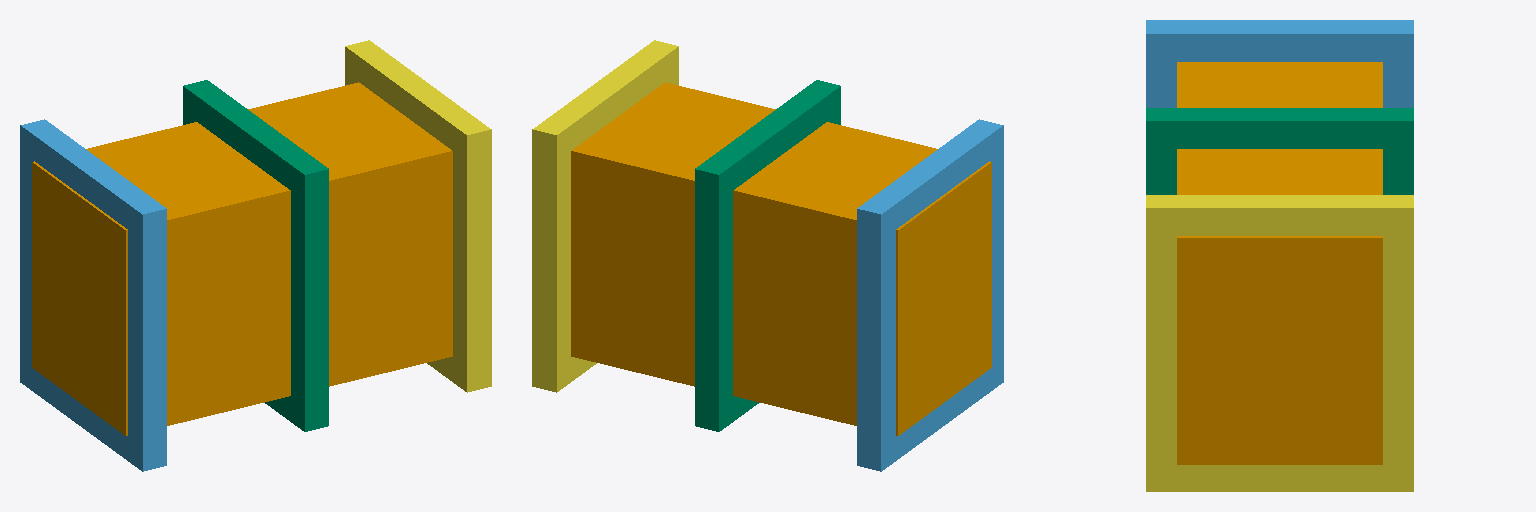
robot.urdf — debris017:
<?xml version="1.0" ?>
<robot name="debris017">

<link name="debris017">
<visual> <origin xyz="0 0 0" rpy="0 0 0" />
<geometry> <box size="0.72 0.33 0.40"/> </geometry>
</visual>
<collision> <origin xyz="0 0 0" rpy="0 0 0" />
<geometry> <box size="0.72 0.33 0.40"/> </geometry>
</collision>
<inertial> <origin xyz="0 0 0" rpy="0 0 0" />
<mass value="10.0" />
<inertia ixx="0.3883" ixy="0" ixz="0" iyy="0.3883" iyz="0" izz="0.3883" />
</inertial>
</link>
<gazebo reference="debris017"> <material>Gazebo/Wood</material> </gazebo>

<link name="debris0170">
<visual> <origin xyz="-0.33 0 0" rpy="0 0 0" />
<geometry> <box size="0.05 0.43 0.50"/> </geometry>
</visual>
<collision> <origin xyz="-0.33 0 0" rpy="0 0 0" />
<geometry> <box size="0.05 0.43 0.50"/> </geometry>
</collision>
<inertial> <origin xyz="0 0 0" rpy="0 0 0" />
<mass value="0.1" />
<inertia ixx="0.0100" ixy="0" ixz="0" iyy="0.0100" iyz="0" izz="0.0100" />
</inertial>
</link>
<gazebo reference="debris0170"> <material>Gazebo/Wood</material> </gazebo>

<joint name="debris0170joint" type="fixed">
<parent link="debris017"/>
<child link="debris0170"/>
<origin xyz="0 0 0" rpy="0 0 0" />
</joint>

<link name="debris0171">
<visual> <origin xyz="0.00 0 0" rpy="0 0 0" />
<geometry> <box size="0.05 0.43 0.50"/> </geometry>
</visual>
<collision> <origin xyz="0.00 0 0" rpy="0 0 0" />
<geometry> <box size="0.05 0.43 0.50"/> </geometry>
</collision>
<inertial> <origin xyz="0 0 0" rpy="0 0 0" />
<mass value="0.1" />
<inertia ixx="0.0100" ixy="0" ixz="0" iyy="0.0100" iyz="0" izz="0.0100" />
</inertial>
</link>
<gazebo reference="debris0171"> <material>Gazebo/Wood</material> </gazebo>

<joint name="debris0171joint" type="fixed">
<parent link="debris017"/>
<child link="debris0171"/>
<origin xyz="0 0 0" rpy="0 0 0" />
</joint>

<link name="debris0172">
<visual> <origin xyz="0.33 0 0" rpy="0 0 0" />
<geometry> <box size="0.05 0.43 0.50"/> </geometry>
</visual>
<collision> <origin xyz="0.33 0 0" rpy="0 0 0" />
<geometry> <box size="0.05 0.43 0.50"/> </geometry>
</collision>
<inertial> <origin xyz="0 0 0" rpy="0 0 0" />
<mass value="0.1" />
<inertia ixx="0.0100" ixy="0" ixz="0" iyy="0.0100" iyz="0" izz="0.0100" />
</inertial>
</link>
<gazebo reference="debris0172"> <material>Gazebo/Wood</material> </gazebo>

<joint name="debris0172joint" type="fixed">
<parent link="debris017"/>
<child link="debris0172"/>
<origin xyz="0 0 0" rpy="0 0 0" />
</joint>

</robot>

--- Facts derived from the render (not from the file) ---
Views: 3 orthographic renders of the robot side by side, from view 1: azimuth 30°, elevation 25°; view 2: azimuth 150°, elevation 25°; view 3: azimuth 270°, elevation 25°.
Model debris017 with 4 links and 3 joints (3 fixed), rooted at debris017, posed all joints at 0.
Links seen in each view (by area): view 1: debris017, debris0170, debris0172, debris0171; view 2: debris017, debris0170, debris0172, debris0171; view 3: debris017, debris0172, debris0170, debris0171.
Boxes of the visible links, bbox=[...] form: debris017: bbox=[32, 82, 452, 435]; debris0170: bbox=[20, 119, 166, 471]; debris0172: bbox=[345, 40, 491, 392]; debris0171: bbox=[183, 80, 328, 431]; debris017: bbox=[571, 82, 991, 435]; debris0170: bbox=[857, 119, 1003, 471]; debris0172: bbox=[532, 40, 678, 392]; debris0171: bbox=[695, 80, 840, 431]; debris017: bbox=[1177, 62, 1382, 464]; debris0172: bbox=[1146, 195, 1413, 491]; debris0170: bbox=[1146, 20, 1413, 107]; debris0171: bbox=[1146, 108, 1413, 194].
Size in the robot's own frame: 0.72 by 0.43 by 0.5 metres.
Geometry: primitives only (box / cylinder / sphere), no mesh files.
